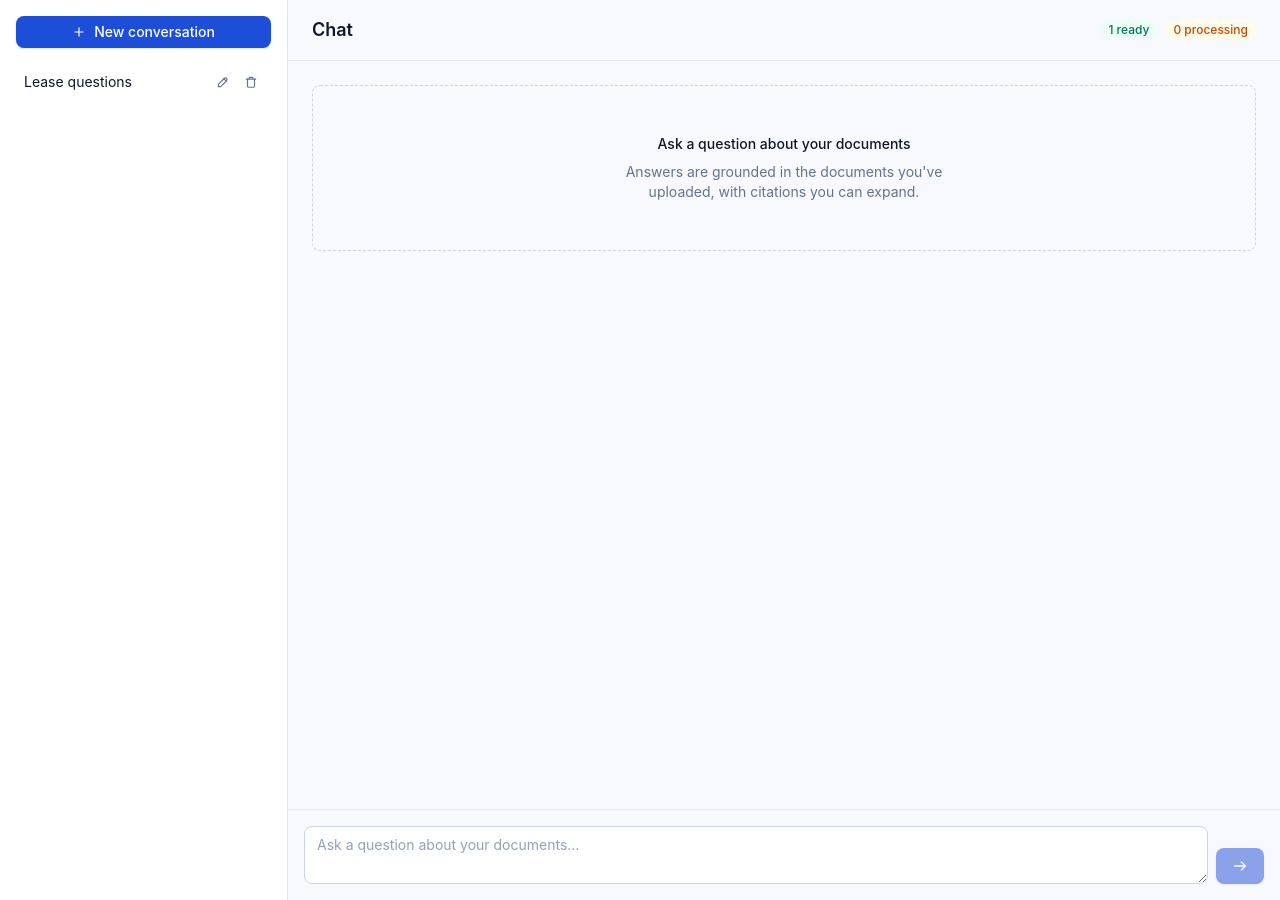
Test case: Chat screen › AC-038: after reload, GET /conversations/{id} shows the same answer with an expandable citation
Click the button "Lease questions". click: point(116, 82)
box: [24,72,207,92]
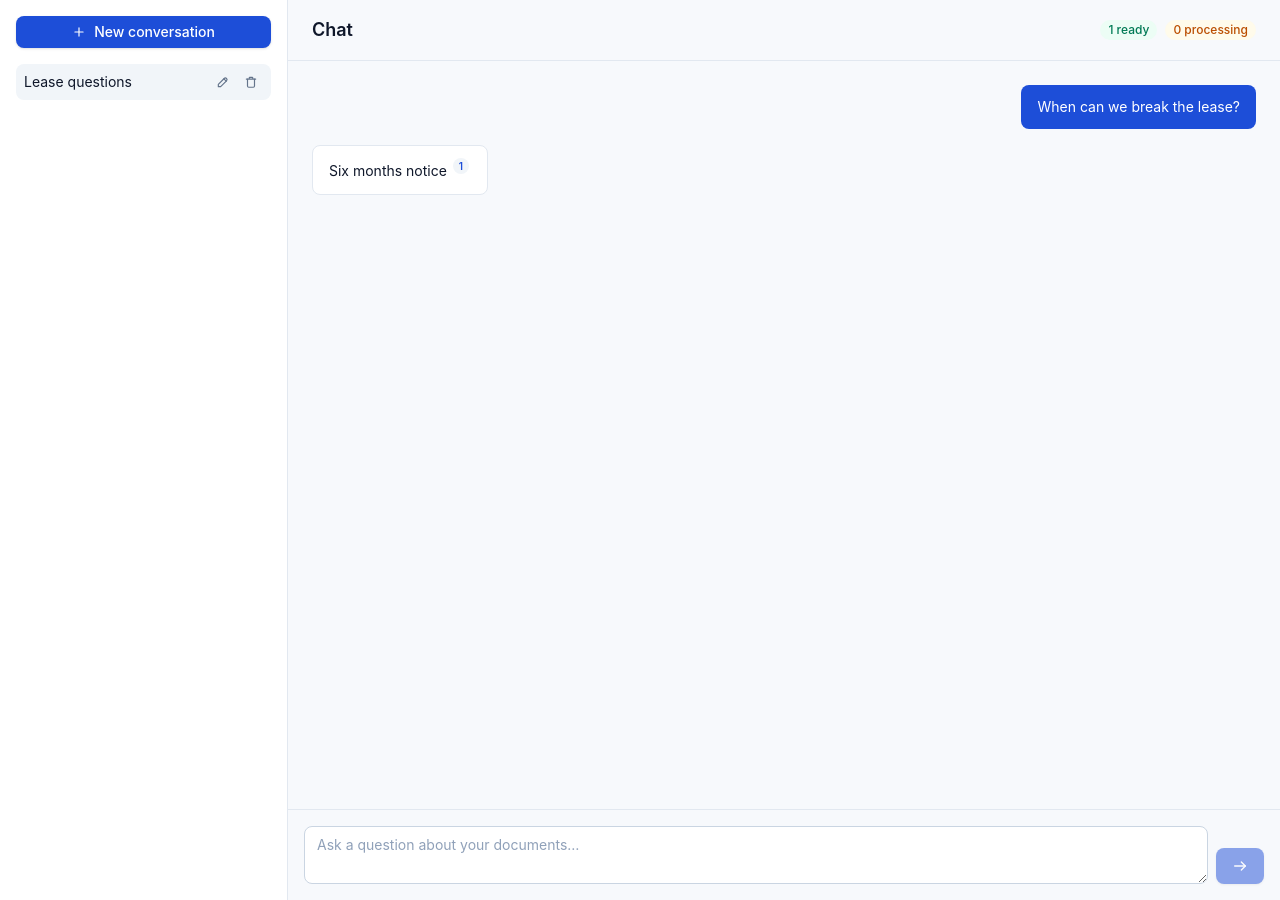
Result: the text "When can we break the lease?" is shown at [1037,97,1240,117]
Result: the text "Six months notice 1" is shown at [329,158,471,182]
Click the button named "citation 1". click: point(461, 166)
box: [453,158,469,174]
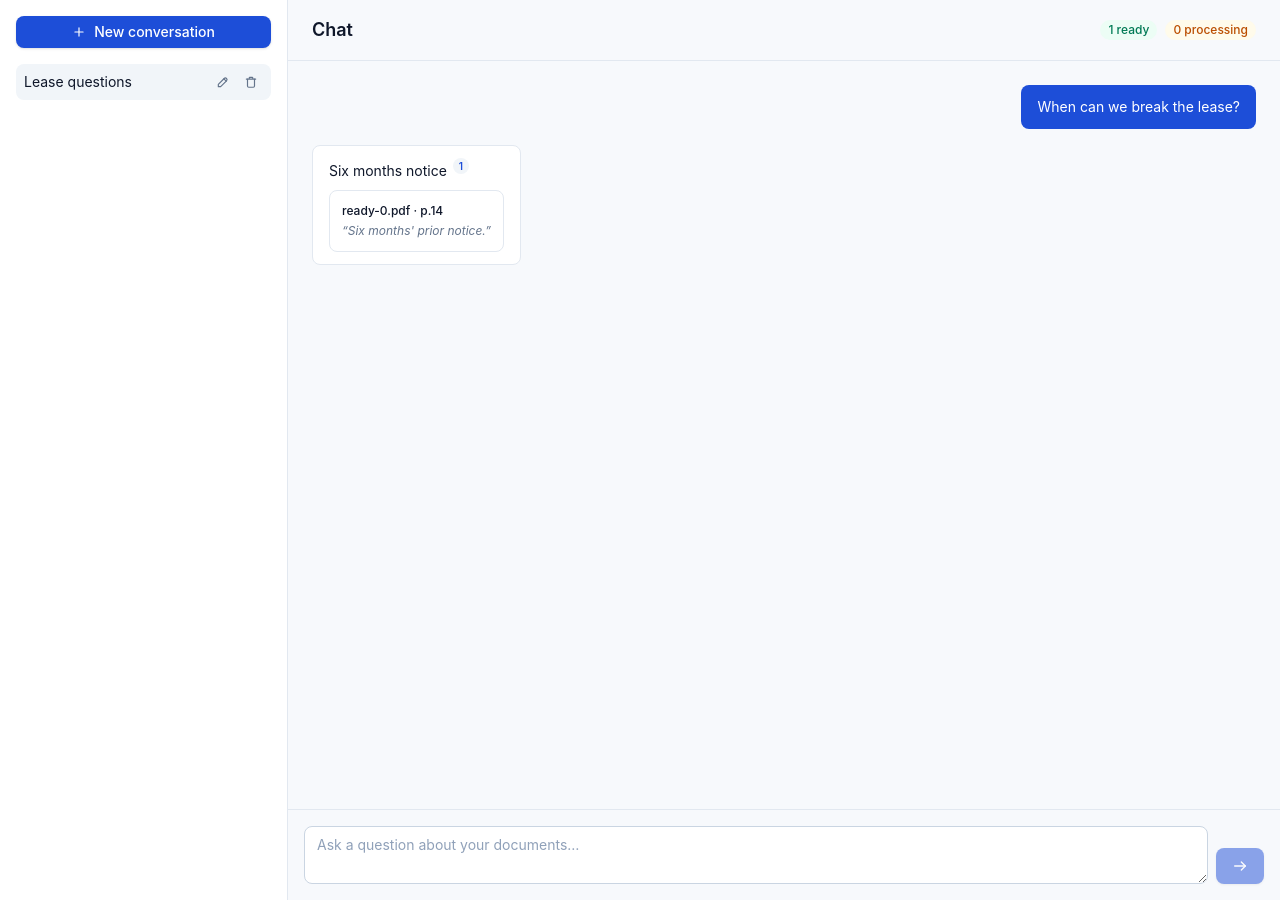
Result: the text "“Six months' prior notice.”" is shown at [342,223,491,239]
Result: the text "ready-0.pdf · p.14" is shown at [342,203,443,218]
Click the button named "citation 1". click: point(461, 166)
box: [453,158,469,174]
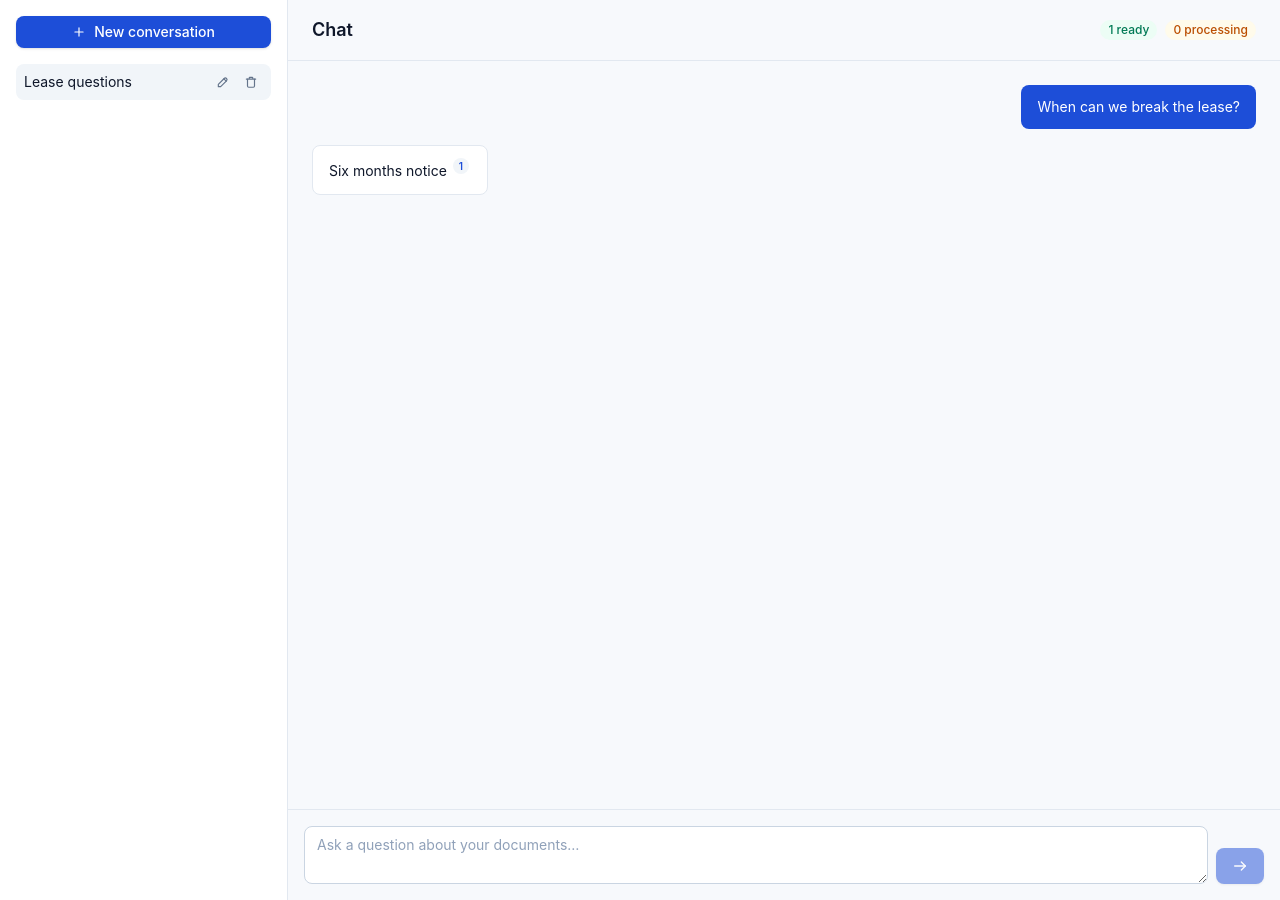
Result: the text "Six months' prior notice" is gone
